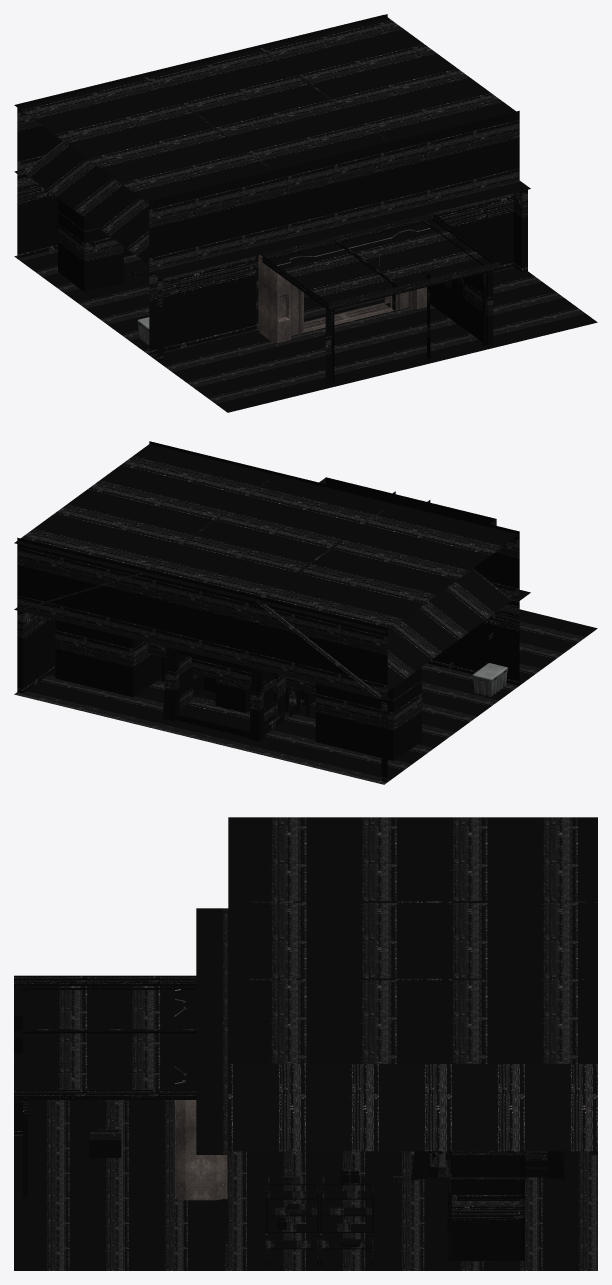
Rendered from machineroom_opt.obj.
3 views of the same model, one above another, from view 1: azimuth 30°, elevation 25°; view 2: azimuth 150°, elevation 25°; view 3: azimuth 270°, elevation 25° (orthographic). The views are drawn at different scales.
Bounding box in the file's own units: 2048 × 817 × 2048.
